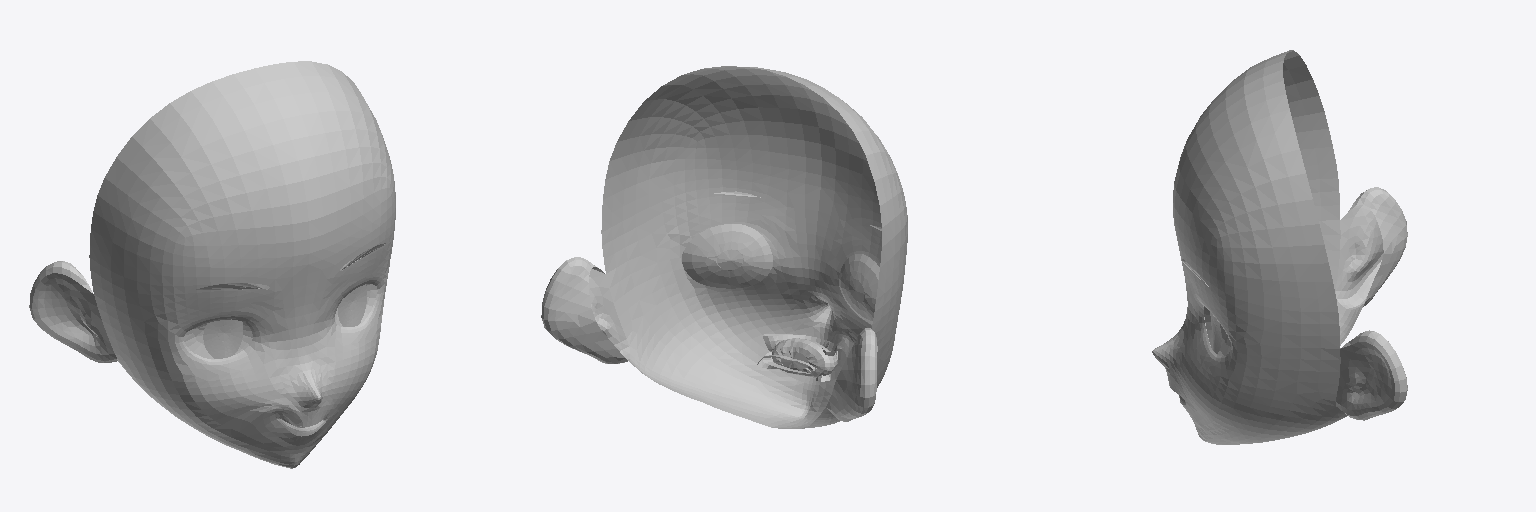
Rendered from mouthSmileRight.obj.
3 renders of one model, left to right at view 1: azimuth 30°, elevation 25°; view 2: azimuth 150°, elevation 25°; view 3: azimuth 270°, elevation 25°, orthographic.
Visible parts, largest first — view 1: Face; view 2: Face; view 3: Face.
Boxes of the visible parts, x1=… form: Face: x1=29, y1=61, x2=395, y2=468; Face: x1=541, y1=66, x2=907, y2=428; Face: x1=1152, y1=50, x2=1407, y2=444.
Size of the model in its own units: 0.2176 by 0.2333 by 0.1449.